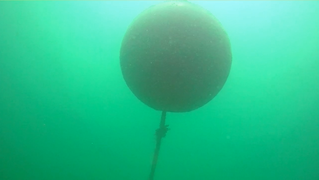bubble: (225, 134, 230, 139), (102, 106, 106, 110), (42, 117, 46, 120), (90, 141, 93, 144), (42, 123, 45, 126)
buoy: (119, 1, 233, 113)
